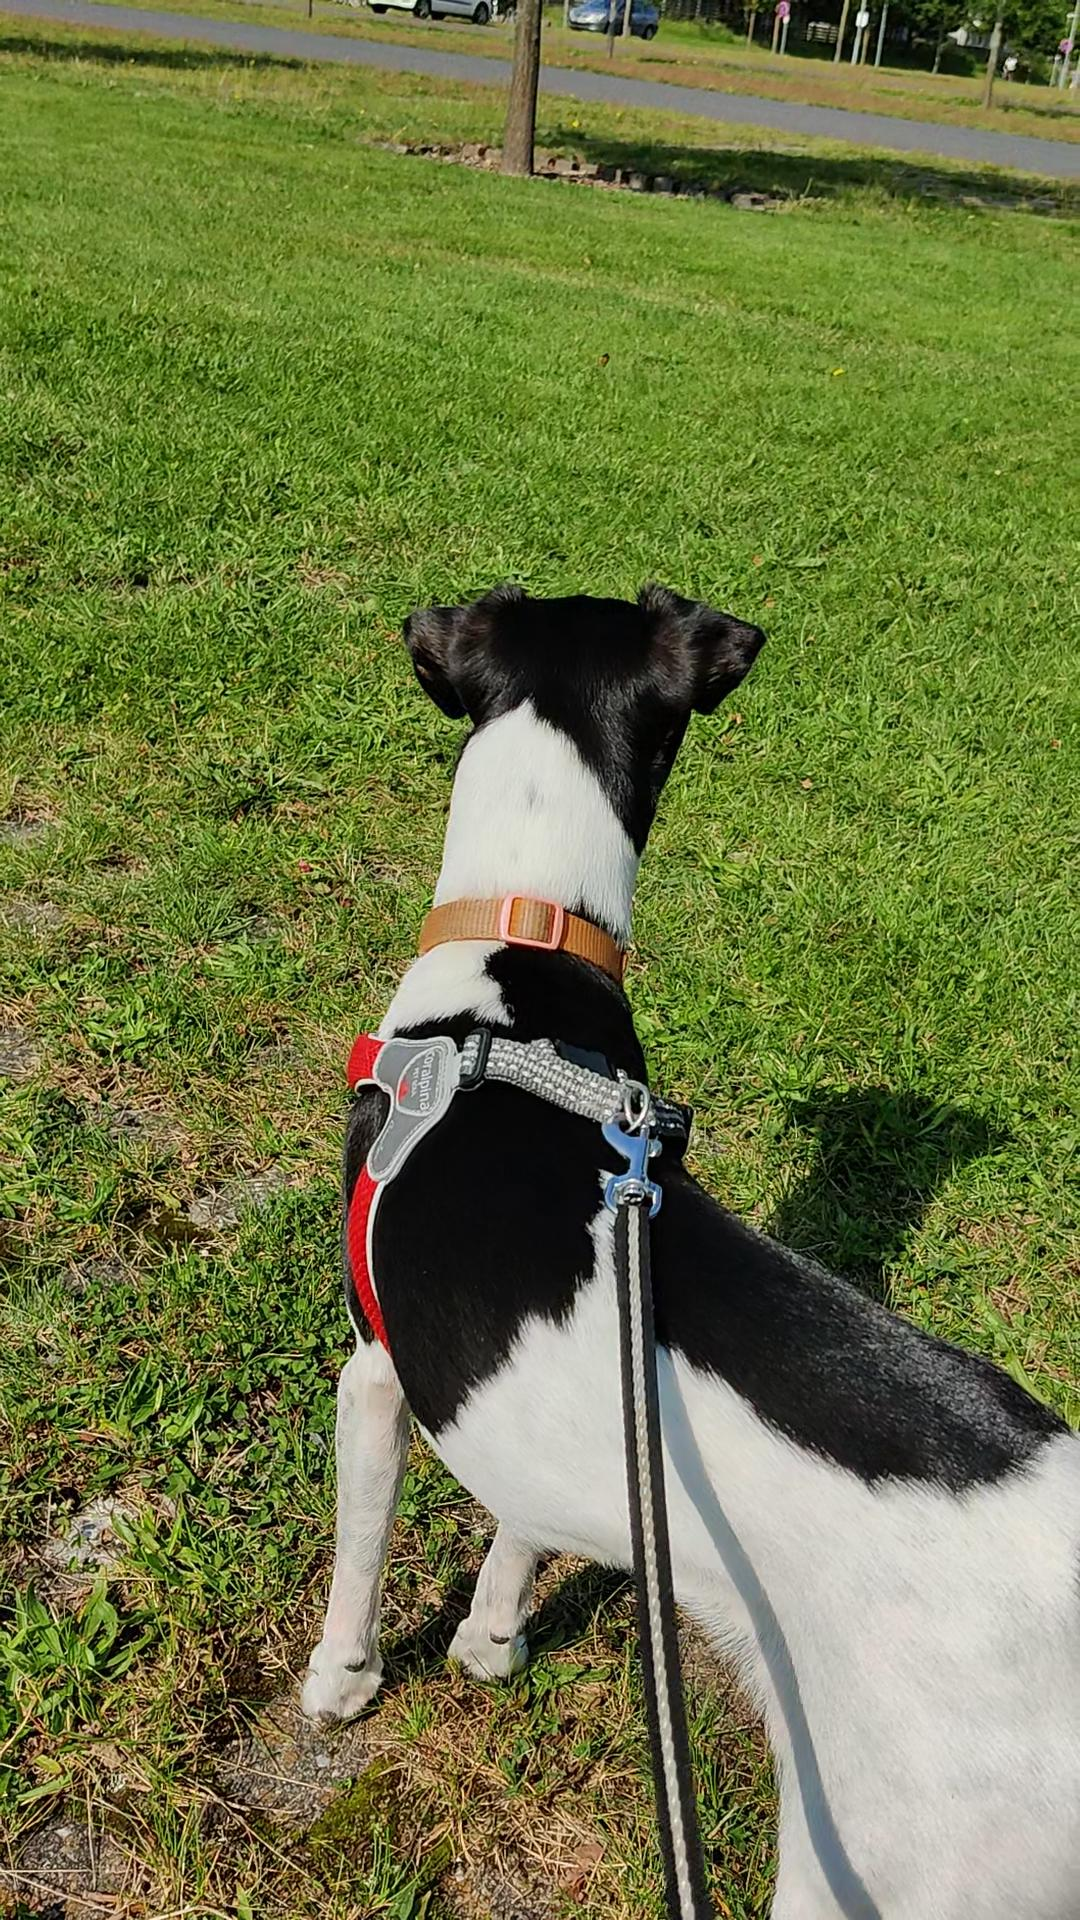Dog: (262, 578, 1079, 1919)
